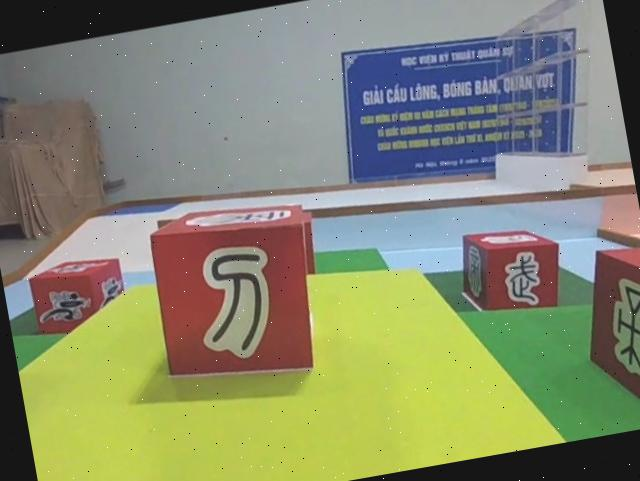R1: (22, 247, 133, 338)
R2 Fake: (140, 190, 330, 396), (455, 218, 569, 322)
R2 Real: (565, 236, 640, 435)
